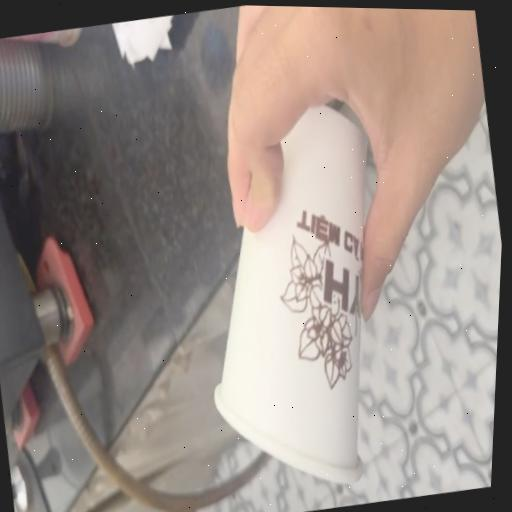Ly_giay: (214, 104, 366, 481)
